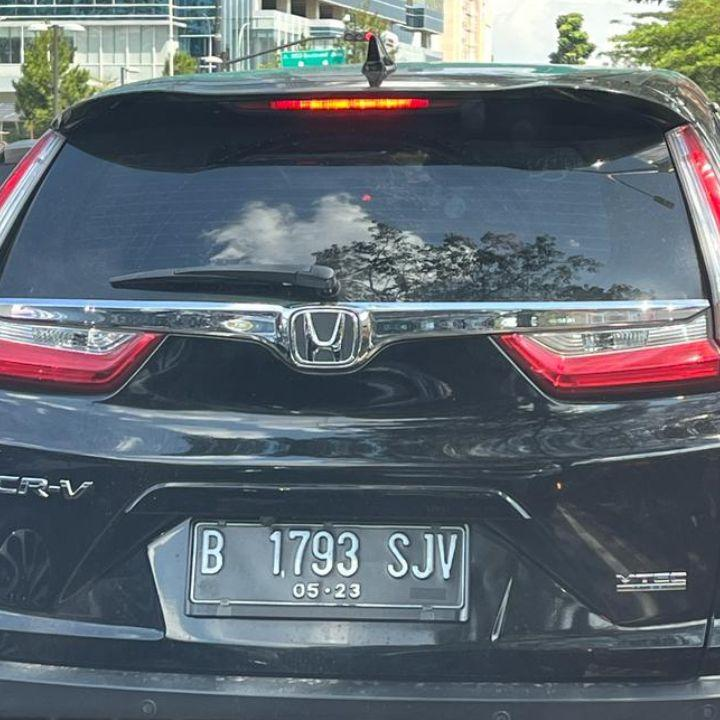plat: (188, 523, 467, 621)
